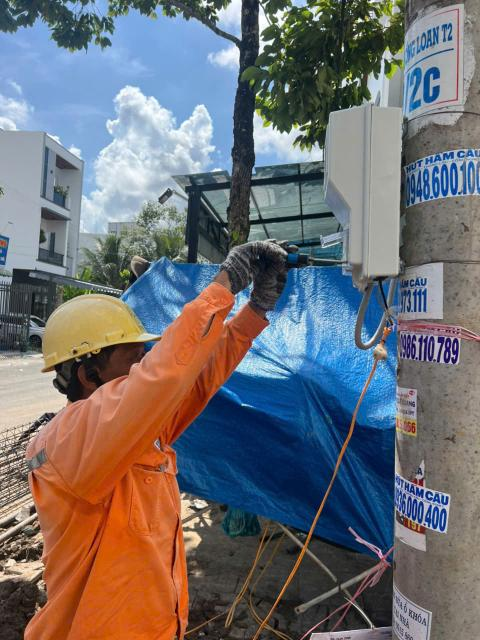gloves: (208, 230, 291, 288), (247, 220, 296, 308)
helmet: (19, 272, 155, 366)
